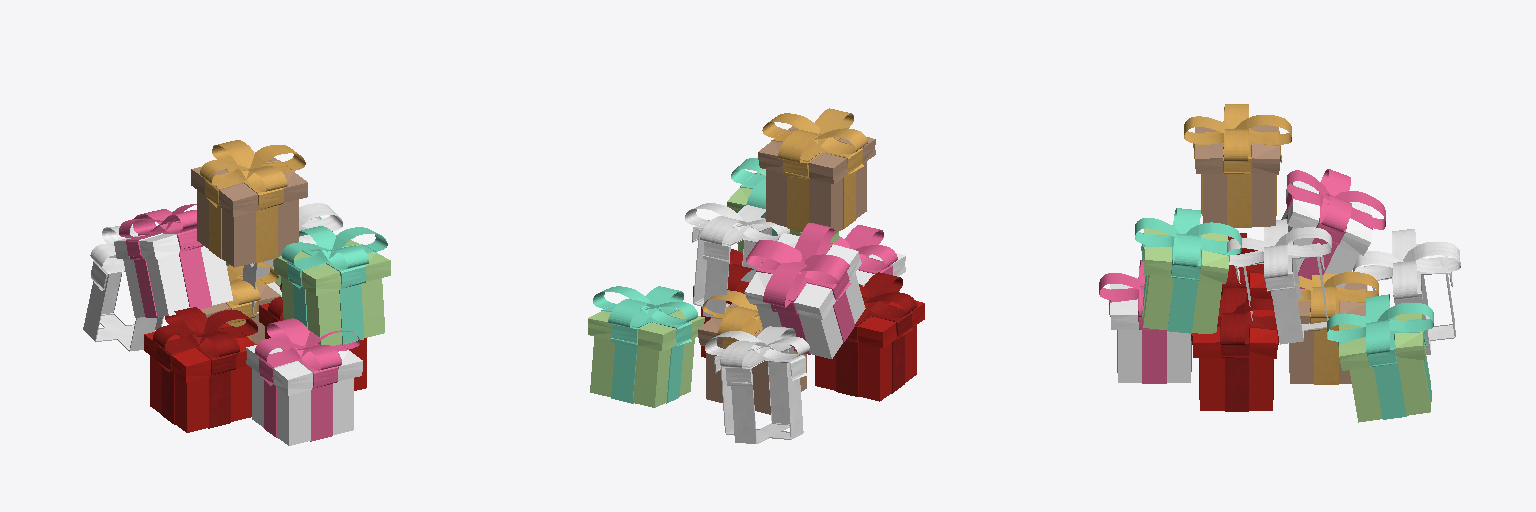
The picture shows the model from 3 angles: view 1: azimuth 30°, elevation 25°; view 2: azimuth 150°, elevation 25°; view 3: azimuth 270°, elevation 25°; orthographic projection.
Parts seen in each view (by area): view 1: Christmas_Gift, Christmas_Gift.003, Christmas_Gift.005, Christmas_Gift.008, Christmas_Gift.002, Christmas_Gift.001, Christmas_Gift.009, Christmas_Gift.006, Christmas_Gift.007; view 2: Christmas_Gift, Christmas_Gift.004, Christmas_Gift.002, Christmas_Gift.003, Christmas_Gift.001, Christmas_Gift.006, Christmas_Gift.009, Christmas_Gift.005, Christmas_Gift.008, Christmas_Gift.007; view 3: Christmas_Gift.004, Christmas_Gift.008, Christmas_Gift, Christmas_Gift.007, Christmas_Gift.002, Christmas_Gift.005, Christmas_Gift.009, Christmas_Gift.006, Christmas_Gift.001, Christmas_Gift.003.
Boxes of the visible parts, <box> form: Christmas_Gift: <box>191,140,307,267</box>; Christmas_Gift.003: <box>144,307,257,432</box>; Christmas_Gift.005: <box>246,318,362,445</box>; Christmas_Gift.008: <box>274,226,390,345</box>; Christmas_Gift.002: <box>114,204,232,317</box>; Christmas_Gift.001: <box>83,226,163,351</box>; Christmas_Gift.009: <box>201,262,280,343</box>; Christmas_Gift.006: <box>243,203,342,314</box>; Christmas_Gift.007: <box>259,283,366,390</box>; Christmas_Gift: <box>758,108,875,235</box>; Christmas_Gift.004: <box>588,286,704,407</box>; Christmas_Gift.002: <box>744,223,865,358</box>; Christmas_Gift.003: <box>815,272,924,401</box>; Christmas_Gift.001: <box>705,326,809,443</box>; Christmas_Gift.006: <box>685,203,789,316</box>; Christmas_Gift.009: <box>698,290,806,414</box>; Christmas_Gift.005: <box>833,225,905,286</box>; Christmas_Gift.008: <box>727,158,838,252</box>; Christmas_Gift.007: <box>693,249,753,357</box>; Christmas_Gift.004: <box>1327,294,1433,422</box>; Christmas_Gift.008: <box>1135,208,1241,333</box>; Christmas_Gift: <box>1184,104,1291,227</box>; Christmas_Gift.007: <box>1191,288,1278,411</box>; Christmas_Gift.002: <box>1281,169,1385,288</box>; Christmas_Gift.005: <box>1099,260,1191,383</box>; Christmas_Gift.009: <box>1271,272,1378,384</box>; Christmas_Gift.006: <box>1227,219,1331,344</box>; Christmas_Gift.001: <box>1353,229,1460,354</box>; Christmas_Gift.003: <box>1220,233,1272,304</box>.
Bounding box in the file's own units: 160 × 155 × 208.
10 materials, 5 textured.